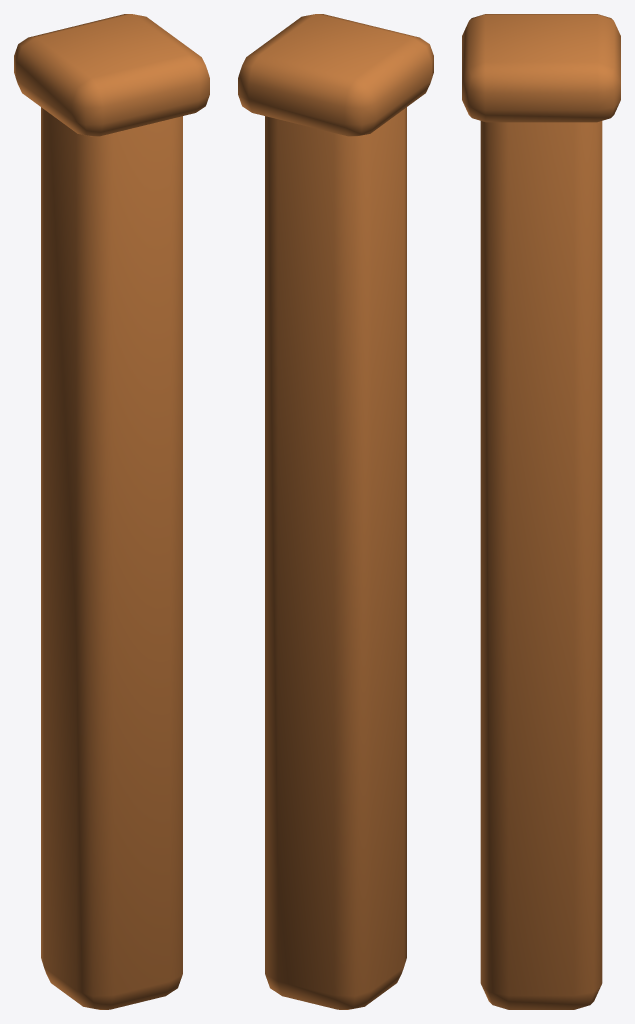
File: fence-picket-honey-post.glb
3 views of the same model, side by side, from view 1: azimuth 30°, elevation 25°; view 2: azimuth 150°, elevation 25°; view 3: azimuth 270°, elevation 25° (orthographic).
Parts seen in each view (by area): view 1: body; view 2: body; view 3: body.
Part boxes in pixels (bbox=[...]): body: bbox=[14, 14, 209, 1009]; body: bbox=[238, 14, 433, 1009]; body: bbox=[462, 14, 620, 1009].
Bounding box in the file's own units: 0.17 × 1.13 × 0.17.
